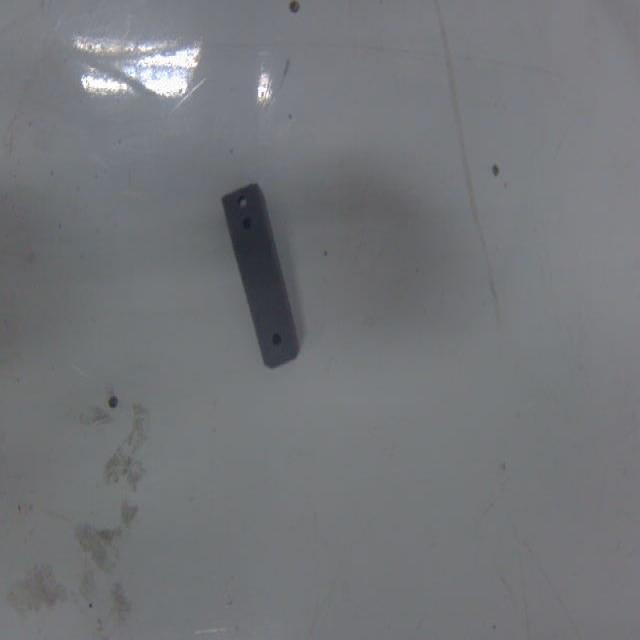grey: (222, 182, 302, 374)
head: (268, 330, 284, 349)
